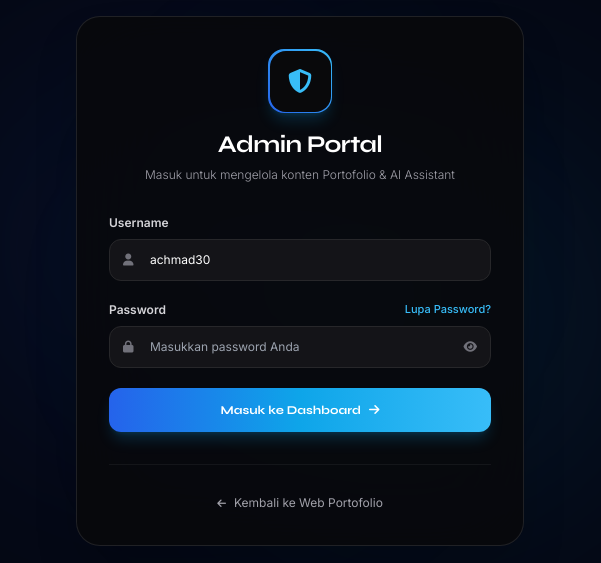
it: AdminLogin & Reset Password via Gmail OTP Flow › switches to Request OTP view when clicking "Lupa Password?"
What coordinates should you click on to do the following:
click the button "Lupa Password?"
I would click on:
 (448, 310)
Its box is 405,301 -> 491,318.
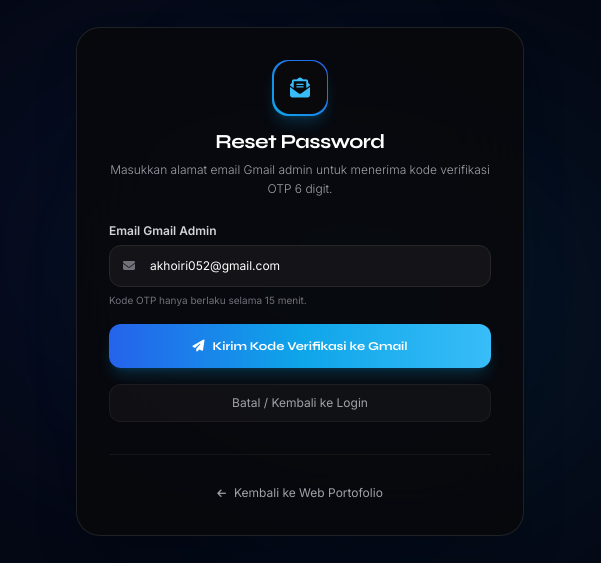
Result: the heading "Reset Password" is shown at 215,128 -> 385,154
Result: the field with placeholder "misal: akhoiri052@gmail.com" is shown at 109,244 -> 491,286
Result: the button "Kirim Kode Verifikasi ke Gmail" is shown at 109,324 -> 491,368
